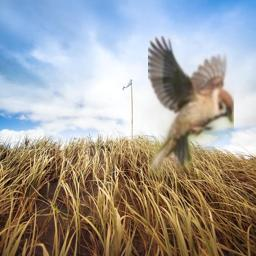Sparrow: (148, 36, 234, 177)
